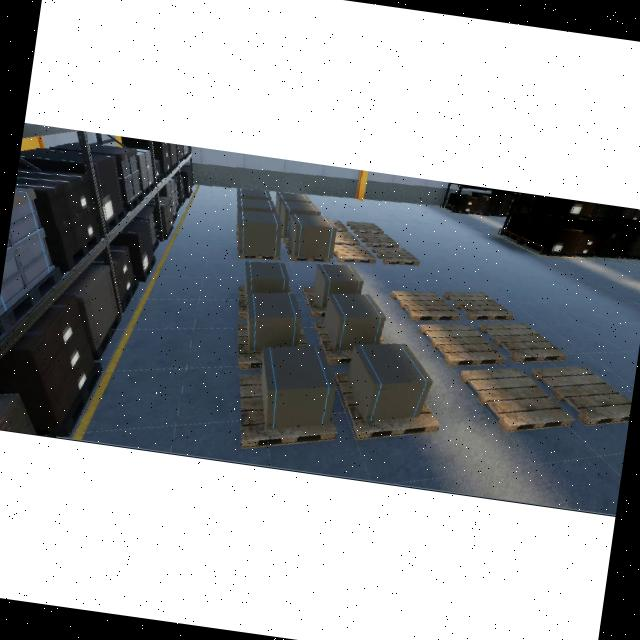wooden_pallet: (459, 368, 574, 433), (239, 374, 338, 449), (334, 371, 440, 441), (531, 367, 631, 427), (419, 323, 506, 366), (478, 323, 568, 364), (390, 291, 460, 322), (442, 291, 514, 321), (314, 320, 353, 366), (237, 323, 263, 371), (284, 242, 330, 263), (372, 248, 421, 266), (333, 245, 376, 264), (302, 287, 326, 318), (356, 233, 400, 248), (346, 222, 384, 234)
